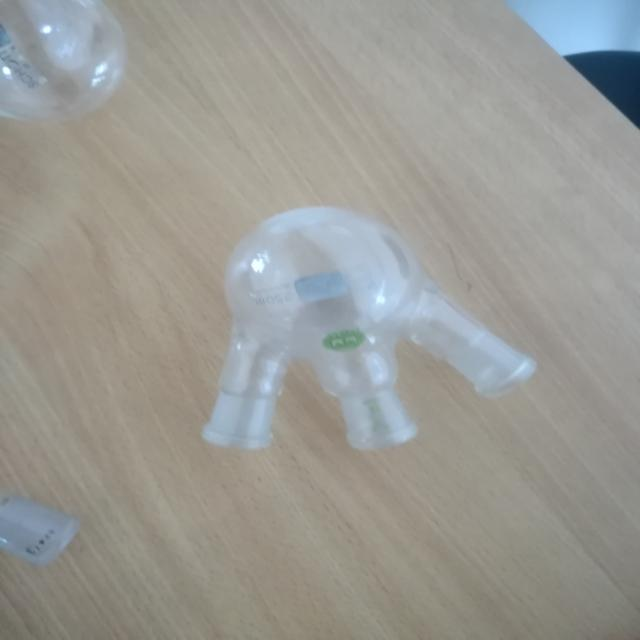Round_Bottom_Flask_Borosilicate_Glass_3_Neck: (166, 166, 550, 505)
